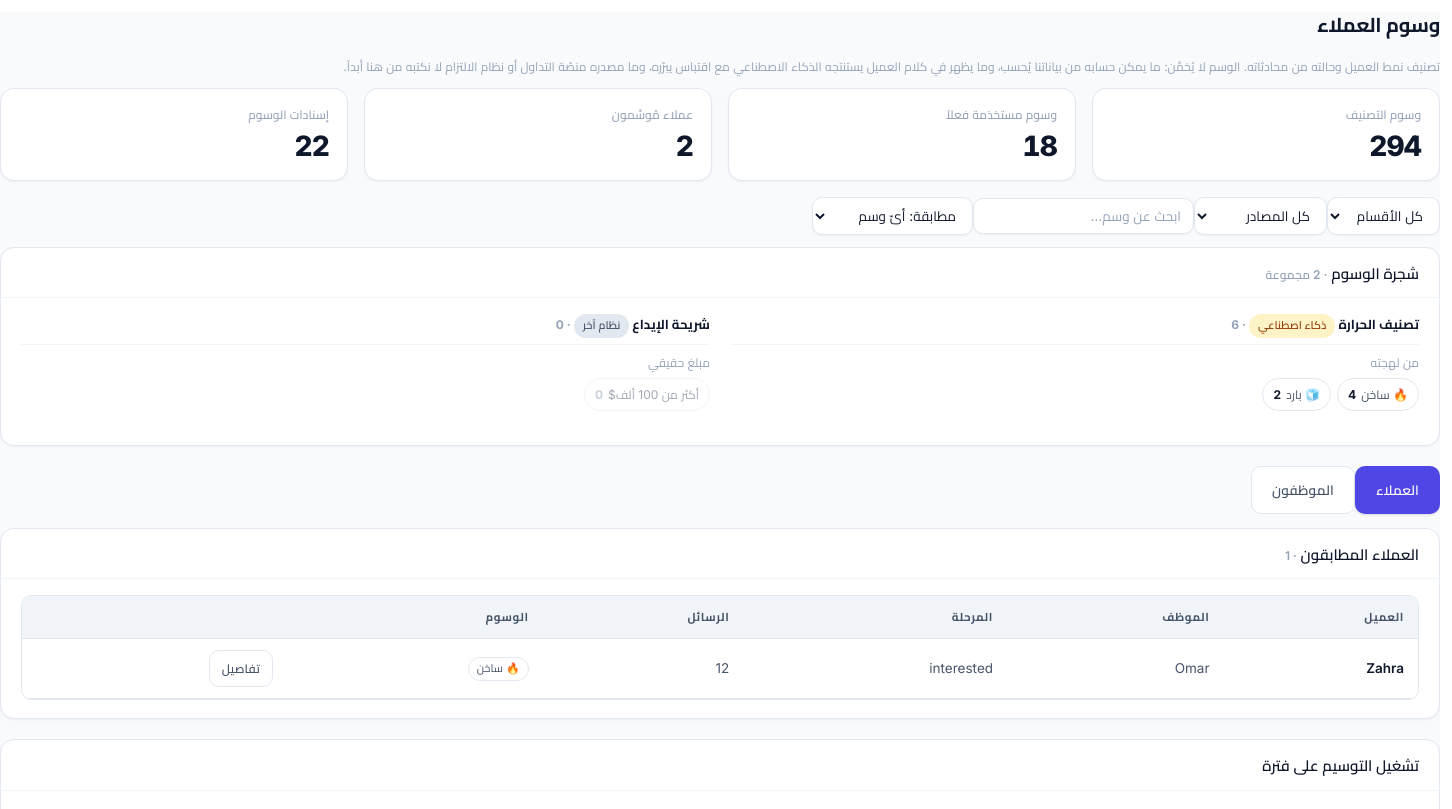
results › switches to employees and shows an empty share as a dash, not 0%
This screenshot has width=1452, height=809.
Click the button "الموظفون": (1303, 490) [1251, 466, 1355, 514]
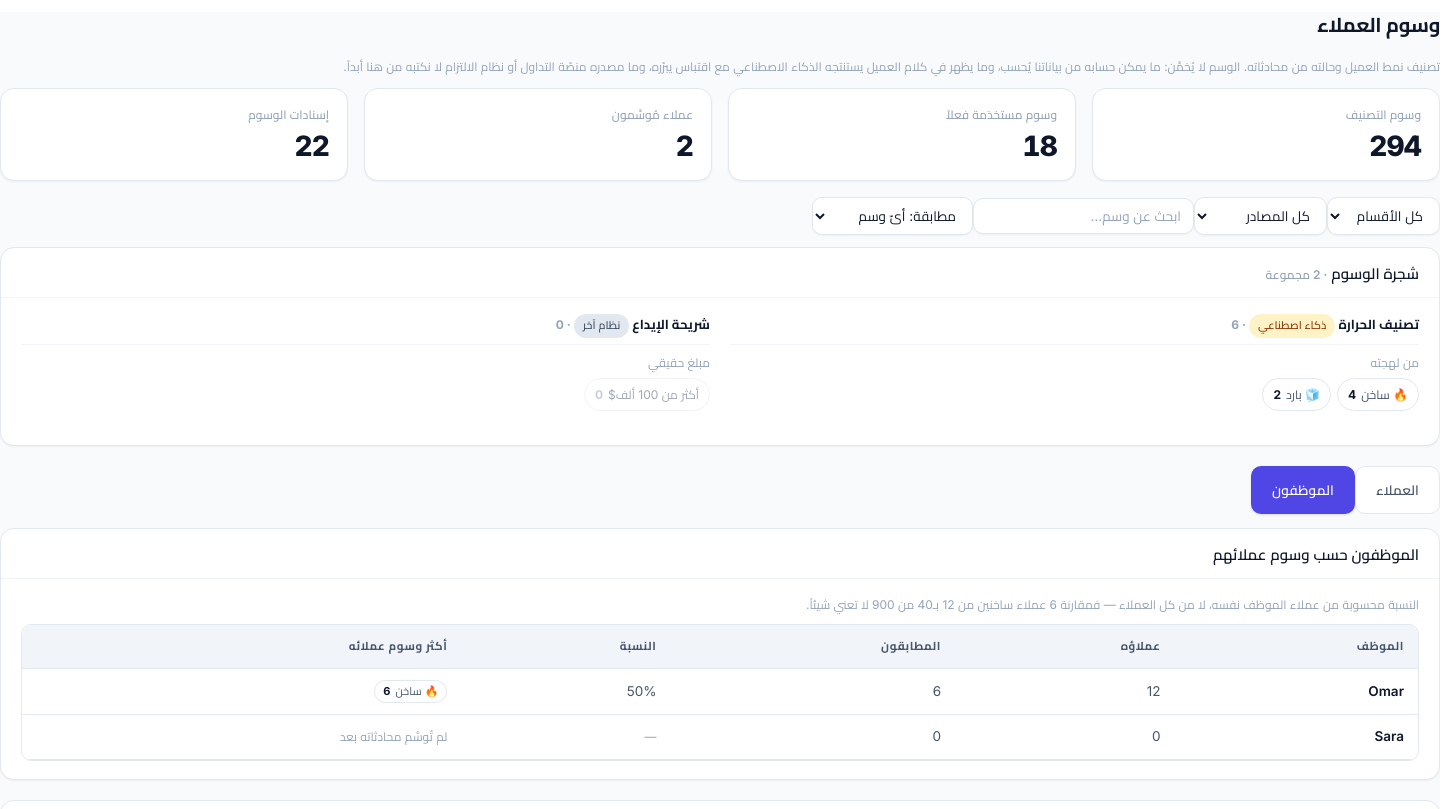
expect the text "Omar" is shown: met, box [1174, 668, 1418, 715]
expect the text "50%" is shown: met, box [461, 668, 670, 715]
expect the text "Sara" shows "—": met, box [644, 729, 656, 744]
